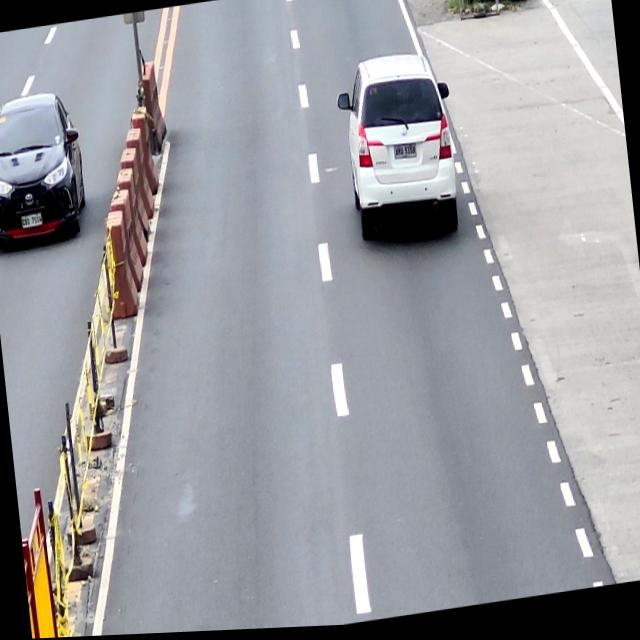Car: (332, 51, 464, 254)
License-Plate: (393, 146, 417, 164)
